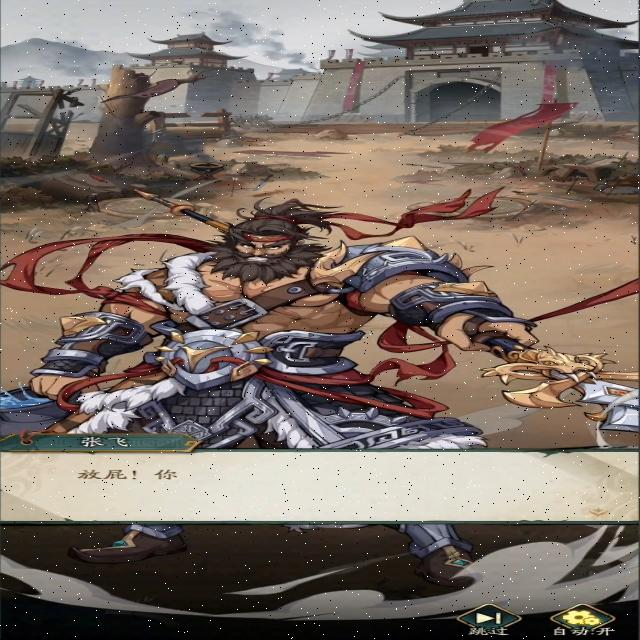system-auto: (550, 602, 618, 638)
system-skip: (459, 604, 518, 636)
